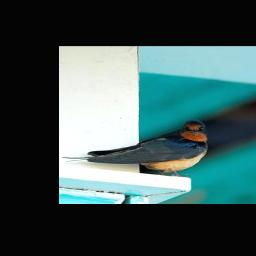Swallow: (62, 117, 212, 176)
